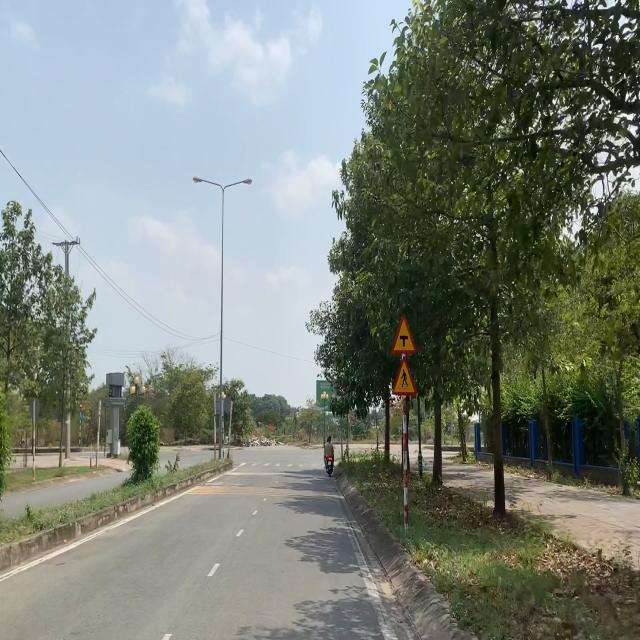Duong giao nhau: (391, 314, 417, 355)
Nguoi di bo cat ngang: (391, 354, 417, 396)
